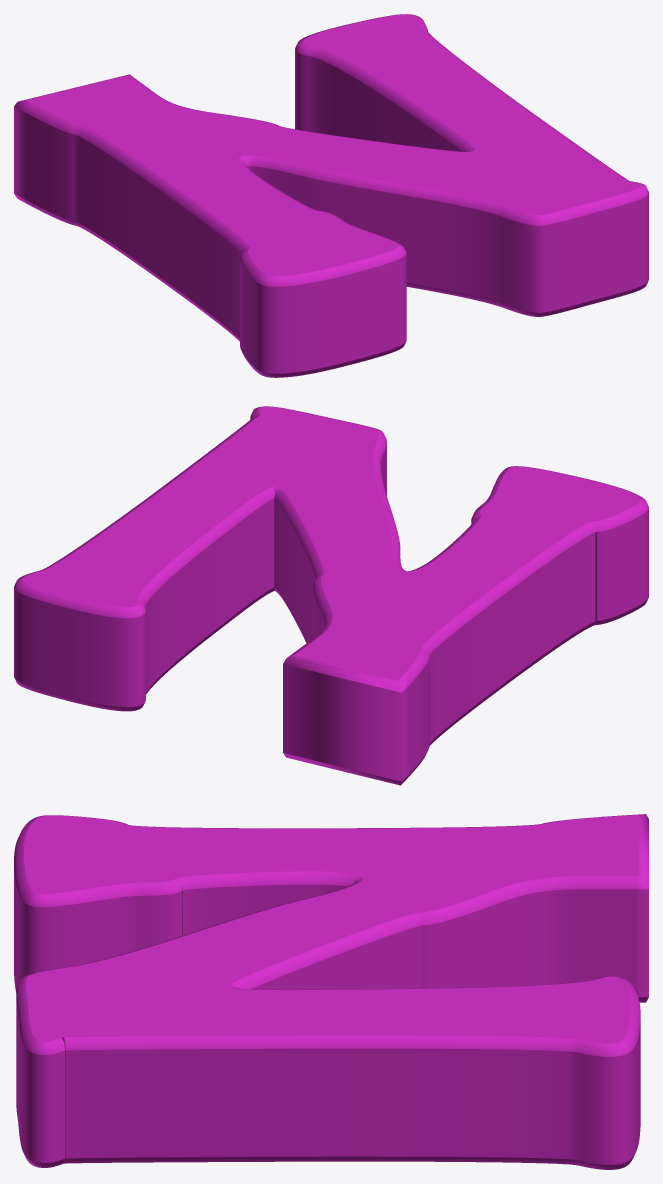
File: Bubble_LetterN.fbx
3 renders of one model, top to bottom at view 1: azimuth 30°, elevation 25°; view 2: azimuth 150°, elevation 25°; view 3: azimuth 270°, elevation 25°, orthographic. The views are drawn at different scales.
Parts seen in each view (by area): view 1: BubbleLetter_N; view 2: BubbleLetter_N; view 3: BubbleLetter_N.
Part boxes in pixels (x1,y1,x2,y2): BubbleLetter_N: (14,14,648,377); BubbleLetter_N: (14,406,648,785); BubbleLetter_N: (14,814,648,1169).
Bounding box in the file's own units: 0.5675 × 0.14 × 0.64.
